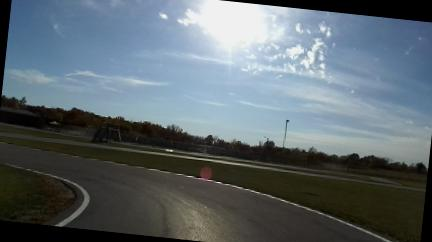Grass: (0, 137, 425, 241), (103, 143, 371, 180), (102, 143, 370, 180), (0, 165, 74, 224), (0, 125, 90, 142), (348, 168, 426, 182), (392, 179, 426, 189)
Lane: (0, 143, 382, 241), (0, 132, 425, 192)
